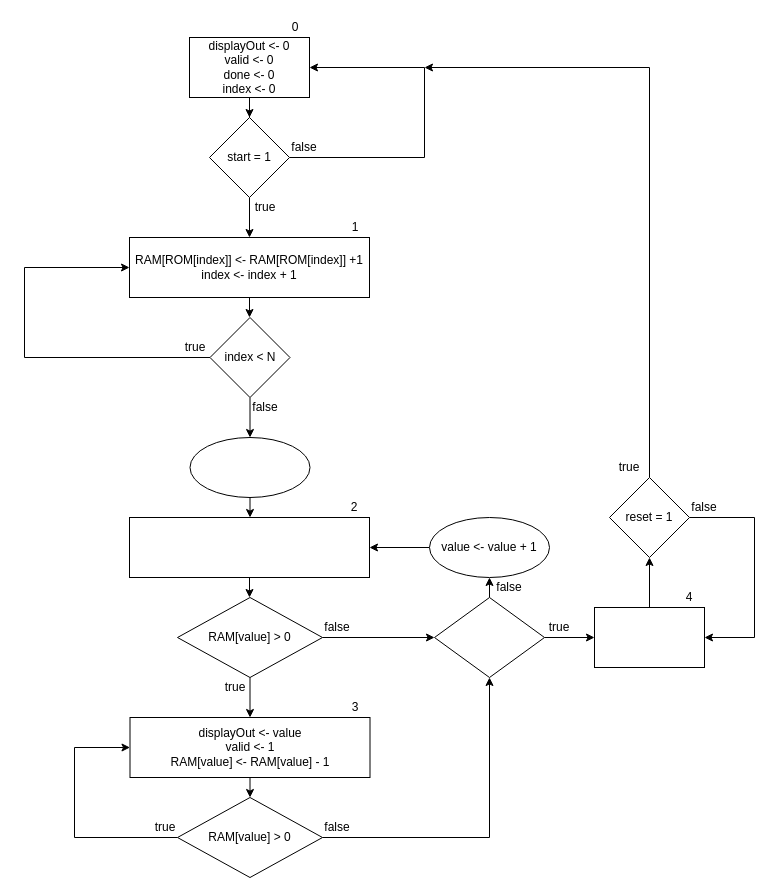
Some shapes in this 780 by 895 pixel diagram are drawn without their labels. The centre of each missing label's shape, as x and y in pixels:
"done <- 1" belongs at point (649, 637).
"valid <- 0" belongs at point (249, 547).
"value <- 0" belongs at point (249, 467).
"value = 255" belongs at point (489, 637).
